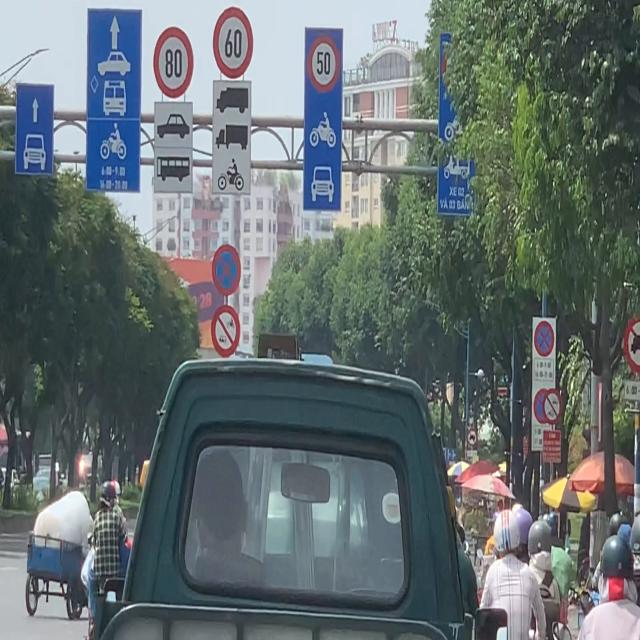Cam con lai: (211, 304, 240, 359), (622, 316, 640, 372)
Cam dung va do: (210, 243, 242, 296), (533, 316, 556, 361)
Toc do toi da: (152, 25, 198, 99), (212, 5, 254, 79), (304, 31, 342, 98)
